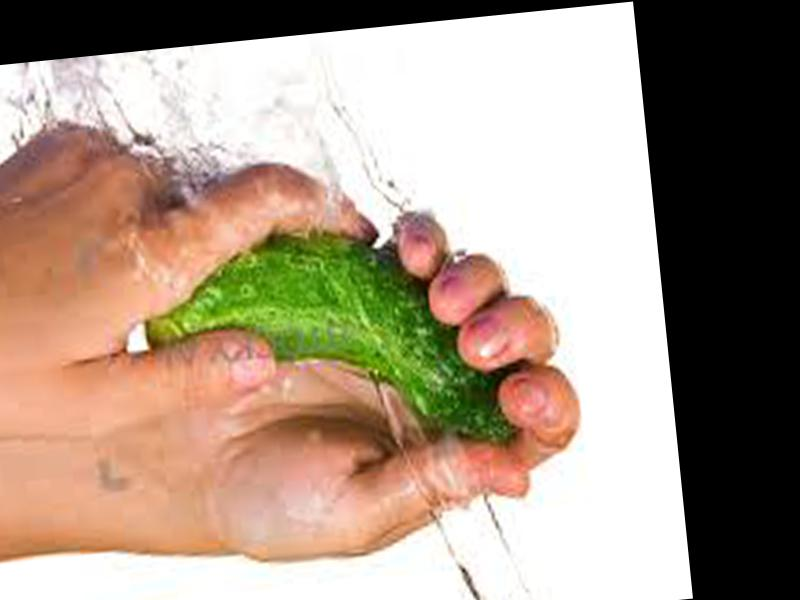Cucumber: (133, 209, 518, 477)
